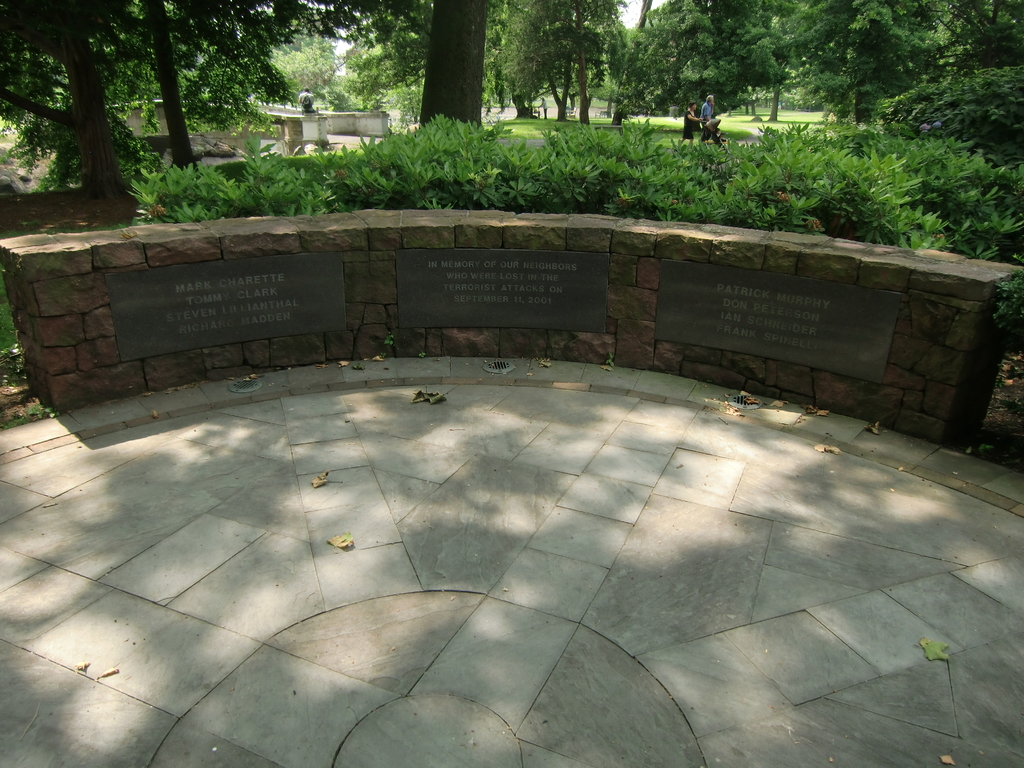Tree: (0, 0, 1023, 309), (150, 0, 687, 136), (16, 17, 187, 199)
